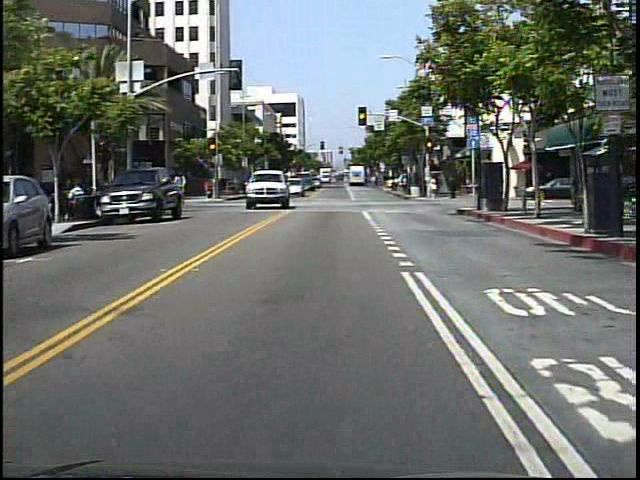person: (170, 169, 191, 203), (448, 172, 462, 205), (428, 176, 440, 200), (205, 176, 215, 199)
